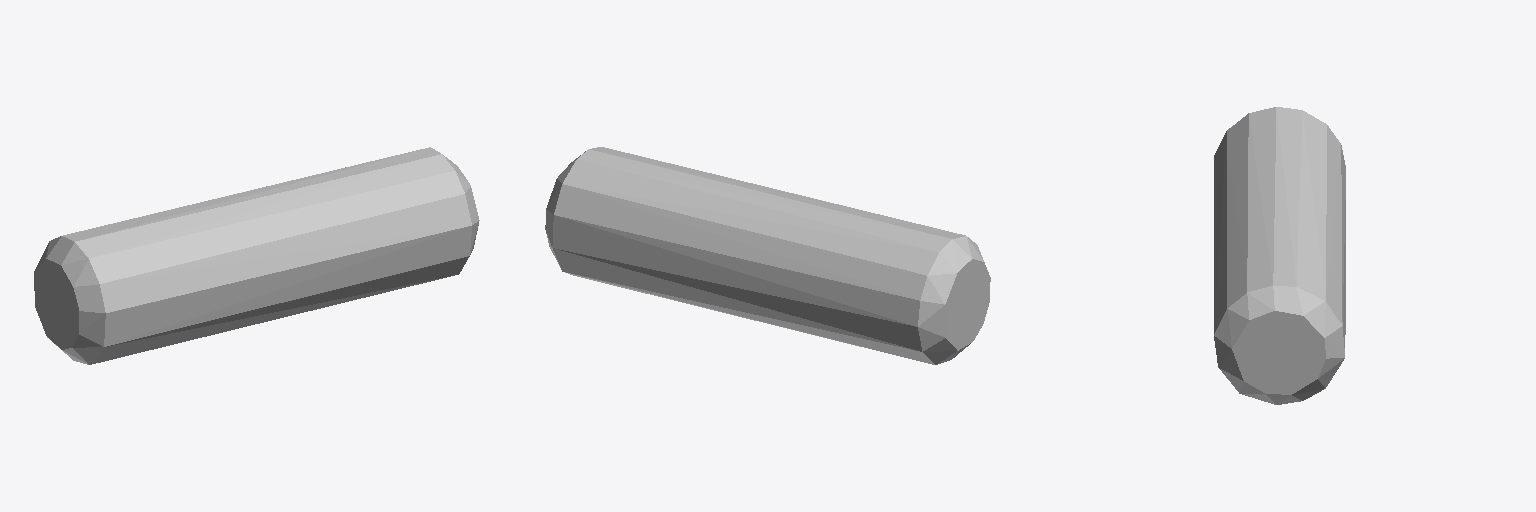
Rendered from stud m12.obj.
3 renders of one model, left to right at view 1: azimuth 30°, elevation 25°; view 2: azimuth 150°, elevation 25°; view 3: azimuth 270°, elevation 25°, orthographic.
Visible parts, largest first — view 1: imagetostl_mesh; view 2: imagetostl_mesh; view 3: imagetostl_mesh.
Boxes of the visible parts, <box> form: imagetostl_mesh: <box>34,147,479,364</box>; imagetostl_mesh: <box>545,147,990,364</box>; imagetostl_mesh: <box>1214,107,1345,404</box>.
Bounding box in the file's own units: 42.02 × 12.09 × 12.07.